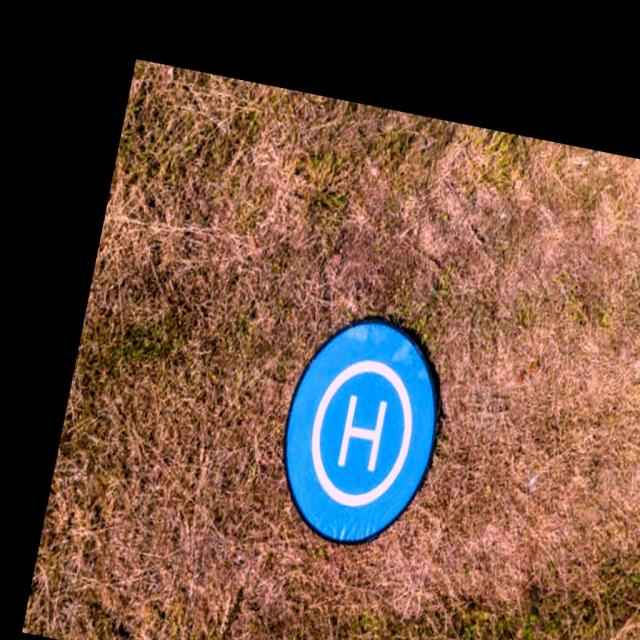helipad: (310, 356, 416, 508)
